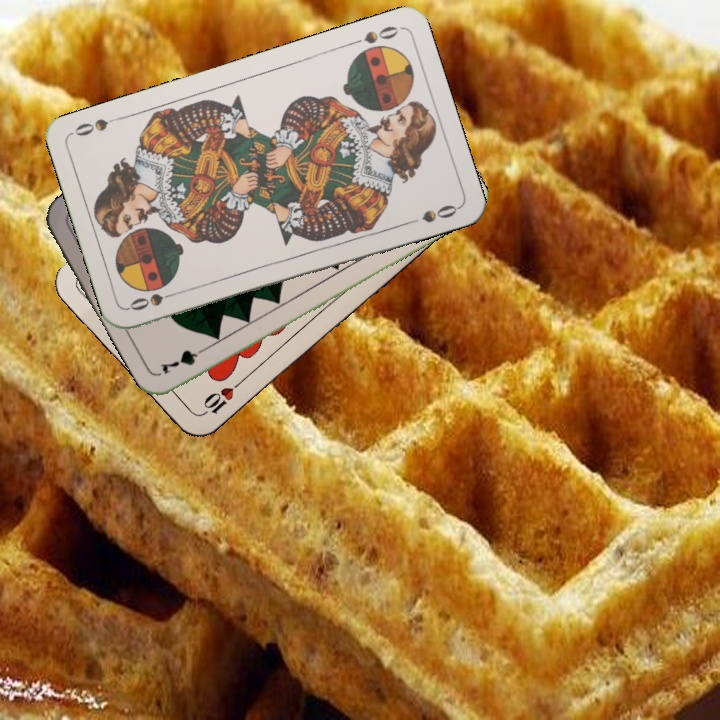G7: (156, 341, 213, 377)
H10: (197, 376, 246, 419)
SO: (125, 286, 183, 314), (345, 22, 402, 48)
